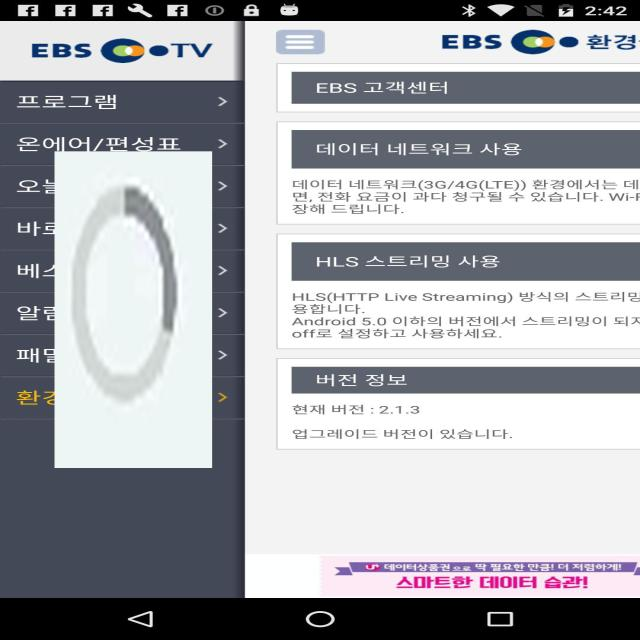misdirection: (55, 151, 212, 468)
